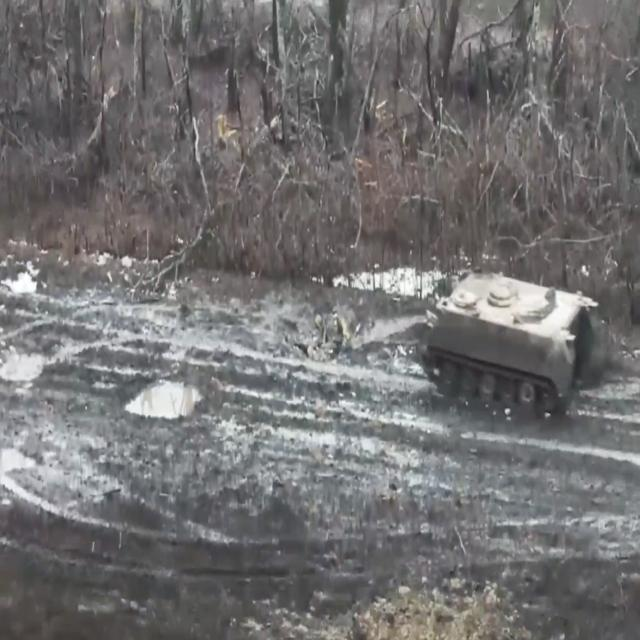vehicle: (414, 270, 601, 422)
